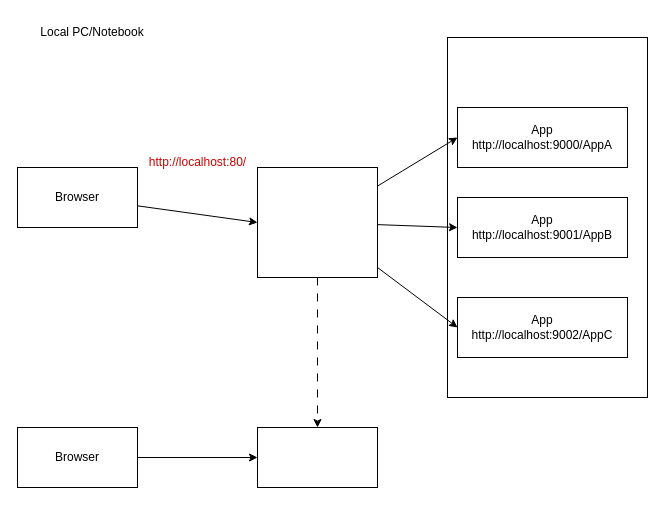
The diagram is 665 pixels wide and 505 high, and some of its shapes have lost their labels. Each missing label, with the box of its shape:
ingress: (256, 426, 378, 488)
reverse proxy (Docker) 10.0.0.20: (256, 166, 378, 278)
